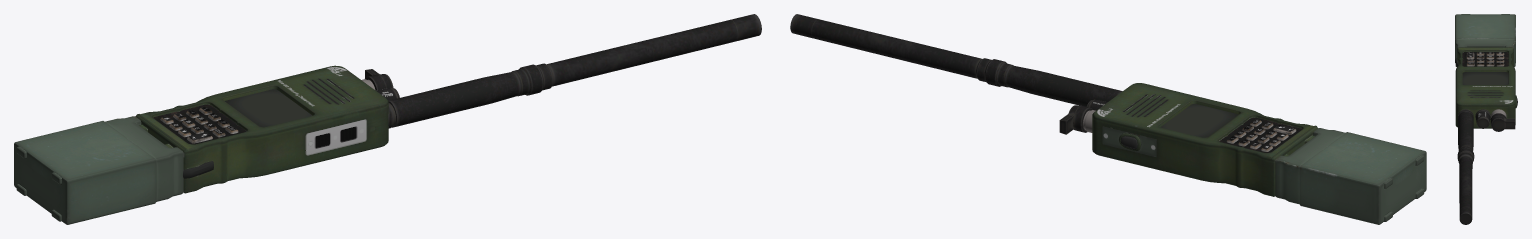
The model's file is RadioPickup.fbx.
3 views of the same model, side by side, from view 1: azimuth 30°, elevation 25°; view 2: azimuth 150°, elevation 25°; view 3: azimuth 270°, elevation 25° (orthographic). The views are drawn at different scales.
Parts seen in each view (by area): view 1: Radio_LP; view 2: Radio_LP; view 3: Radio_LP.
Part boxes in pixels (bbox=[...]): Radio_LP: bbox=[14, 14, 761, 224]; Radio_LP: bbox=[790, 14, 1426, 224]; Radio_LP: bbox=[1455, 14, 1517, 224].
Size of the model in its own units: 1.03 by 0.0636 by 0.1406.
Materials: 1 (1 with a texture image).
